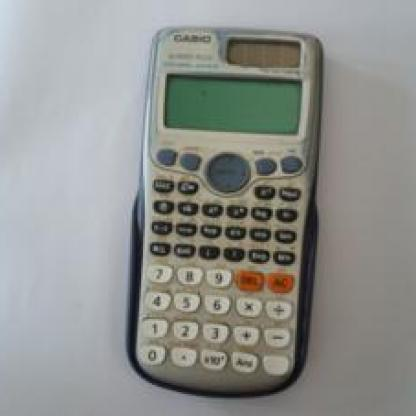calculator: (124, 13, 318, 400)
